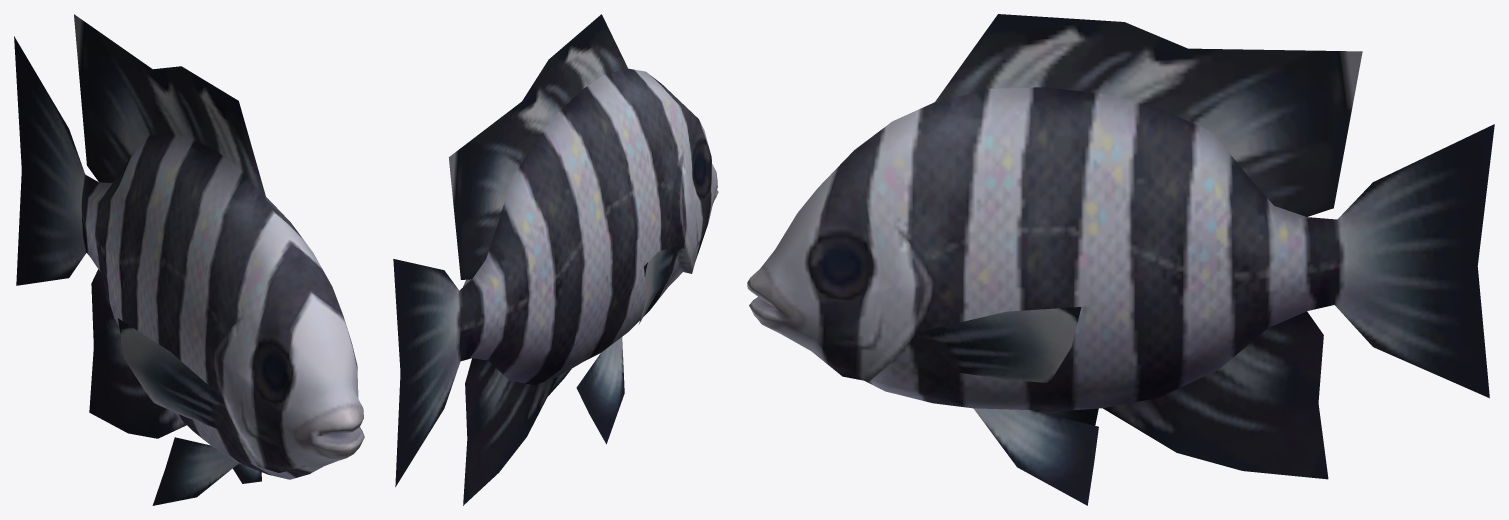
Rendered from FishIshidai.glb.
3 renders of one model, left to right at view 1: azimuth 30°, elevation 25°; view 2: azimuth 150°, elevation 25°; view 3: azimuth 270°, elevation 25°, orthographic. The views are drawn at different scales.
Visible parts, largest first — view 1: FishIshidai__mIshidai; view 2: FishIshidai__mIshidai; view 3: FishIshidai__mIshidai.
Boxes of the visible parts, x1,y1,x2,y2 form: FishIshidai__mIshidai: [14, 14, 364, 505]; FishIshidai__mIshidai: [393, 14, 718, 505]; FishIshidai__mIshidai: [747, 14, 1494, 505].
Size of the model in its own units: 1.67 by 4.05 by 5.87.
1 material, 1 textured.
